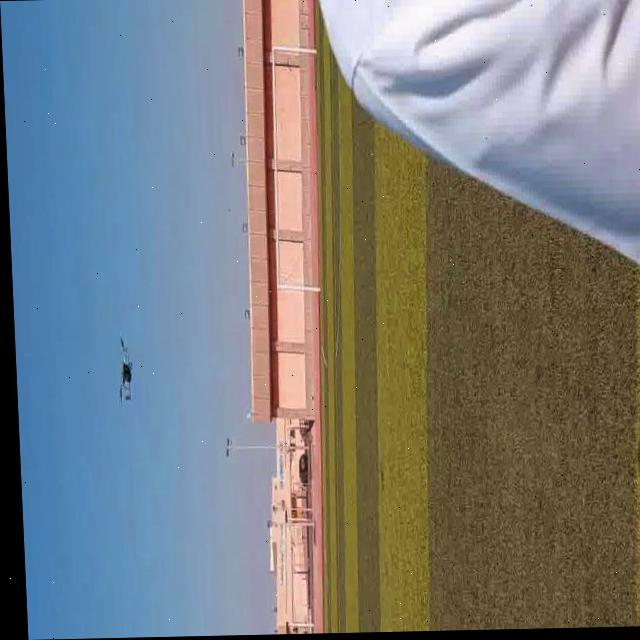drone: (112, 329, 134, 413)
